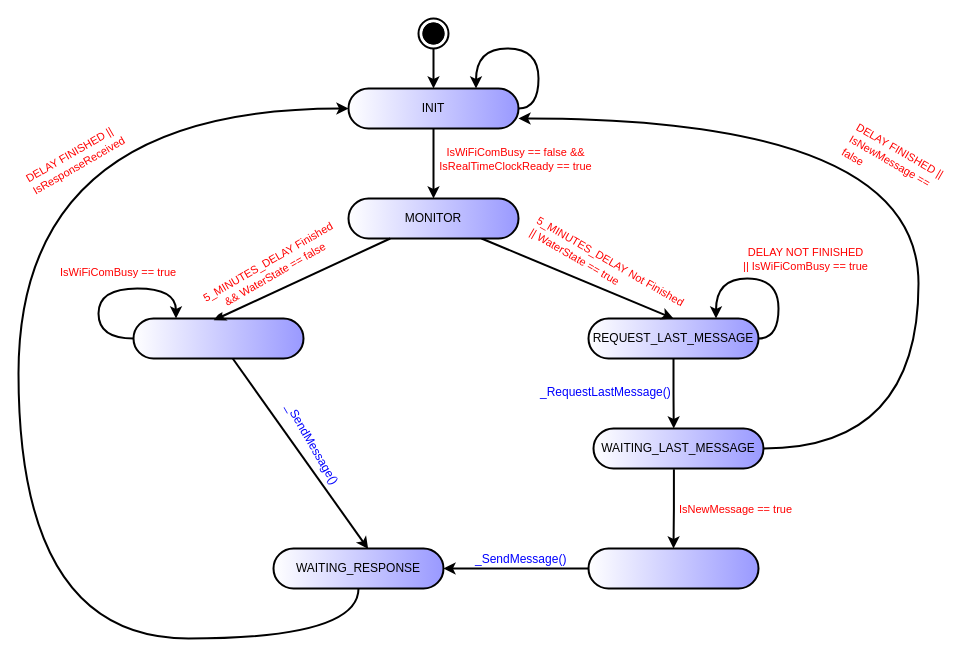
Image size: 976x656. Some labels were removed from this diagram. The centre of each missing label's shape, as x and y in pixels:
"PROCESS_LAST_MESSAGE" goes at point (673, 568).
"SEND_ALERT" goes at point (218, 338).
